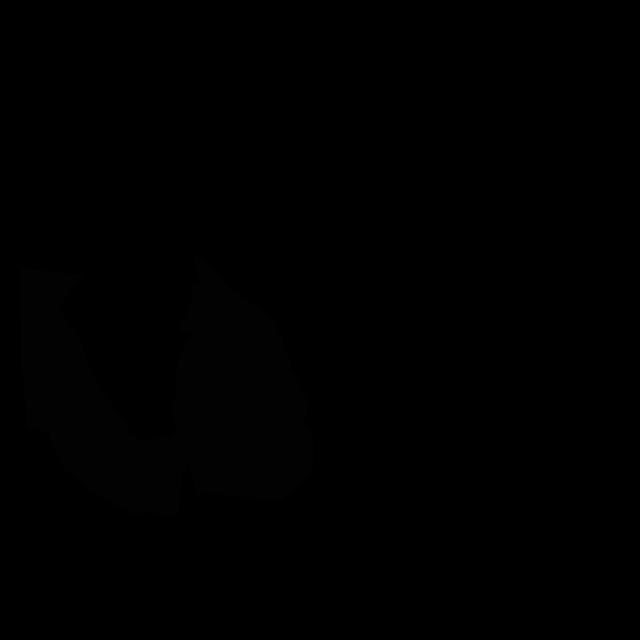cardboard: (19, 268, 200, 516), (170, 255, 313, 500)
